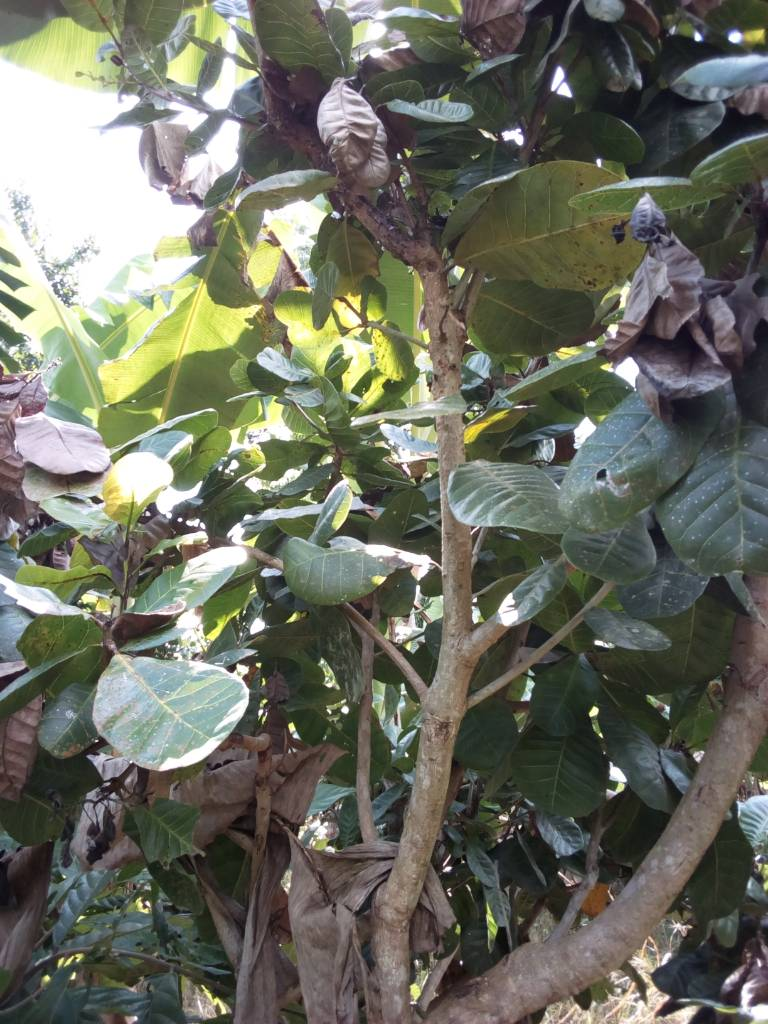Dessèchement des bourgeons: (255, 50, 332, 169), (624, 197, 677, 244)
